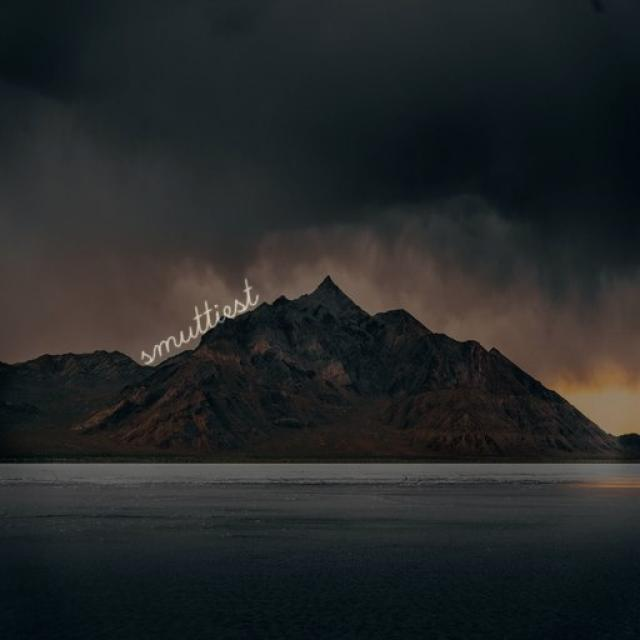watermark: (136, 271, 260, 371)
